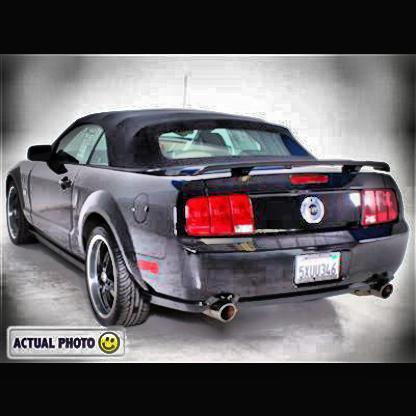Ford Mustang Convertible 2007: (8, 109, 410, 332)
